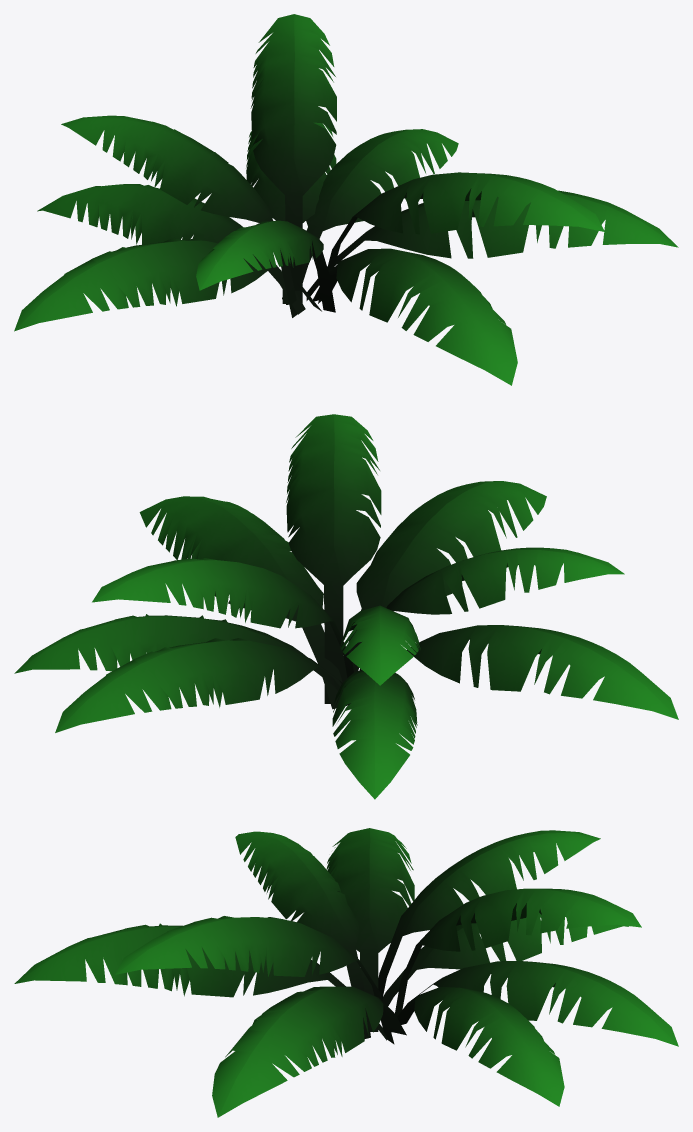
Rendered from Plant_01.fbx.
The picture shows the model from 3 angles, top to bottom: view 1: azimuth 30°, elevation 25°; view 2: azimuth 150°, elevation 25°; view 3: azimuth 270°, elevation 25°; orthographic projection. The views are drawn at different scales.
Visible parts, largest first — view 1: Plant_01; view 2: Plant_01; view 3: Plant_01.
Boxes of the visible parts, <box> form: Plant_01: <box>14,14,678,385</box>; Plant_01: <box>14,414,678,799</box>; Plant_01: <box>14,828,678,1117</box>.
Size of the model in its own units: 153 by 45.58 by 154.
